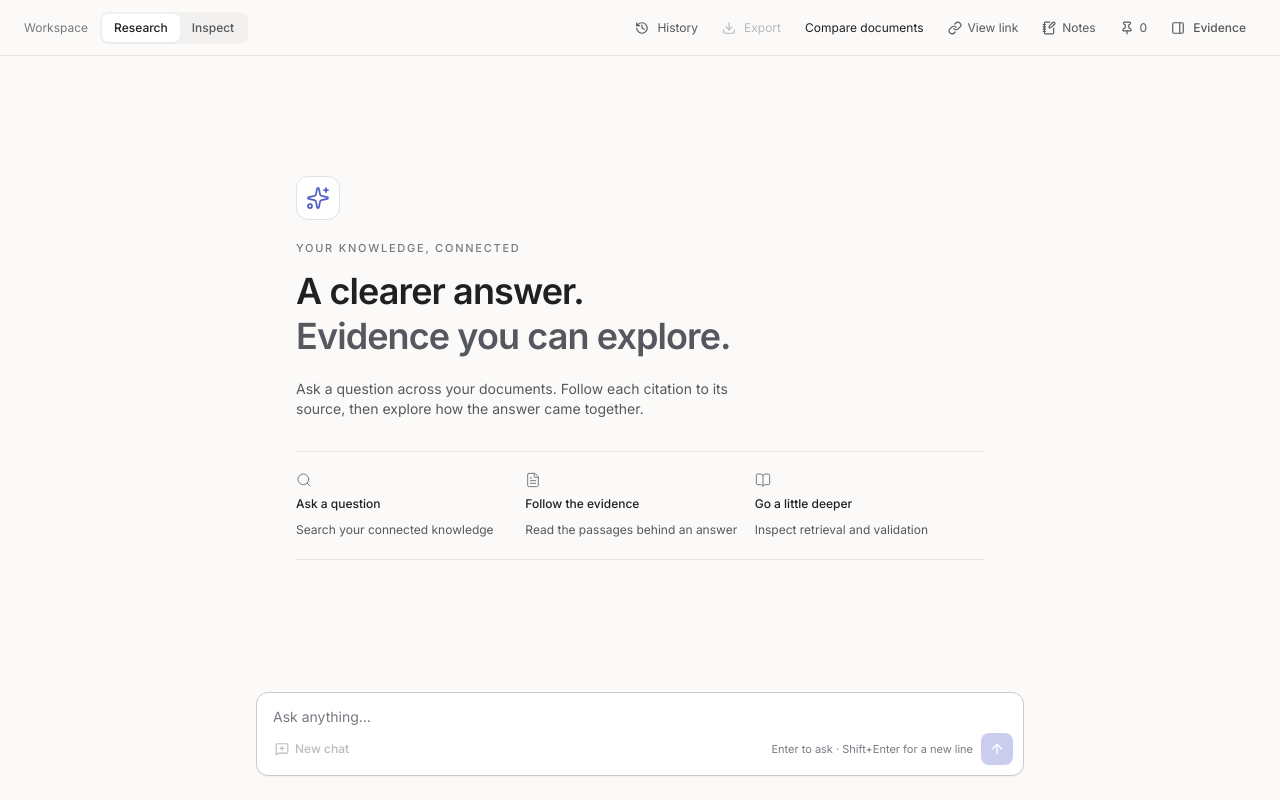
Playground evidence flow › opens supporting evidence with its passage, location and answer citation
Type "How should we deploy?" into the text box named "Question" at (640,710), box [257,693,1023,727]
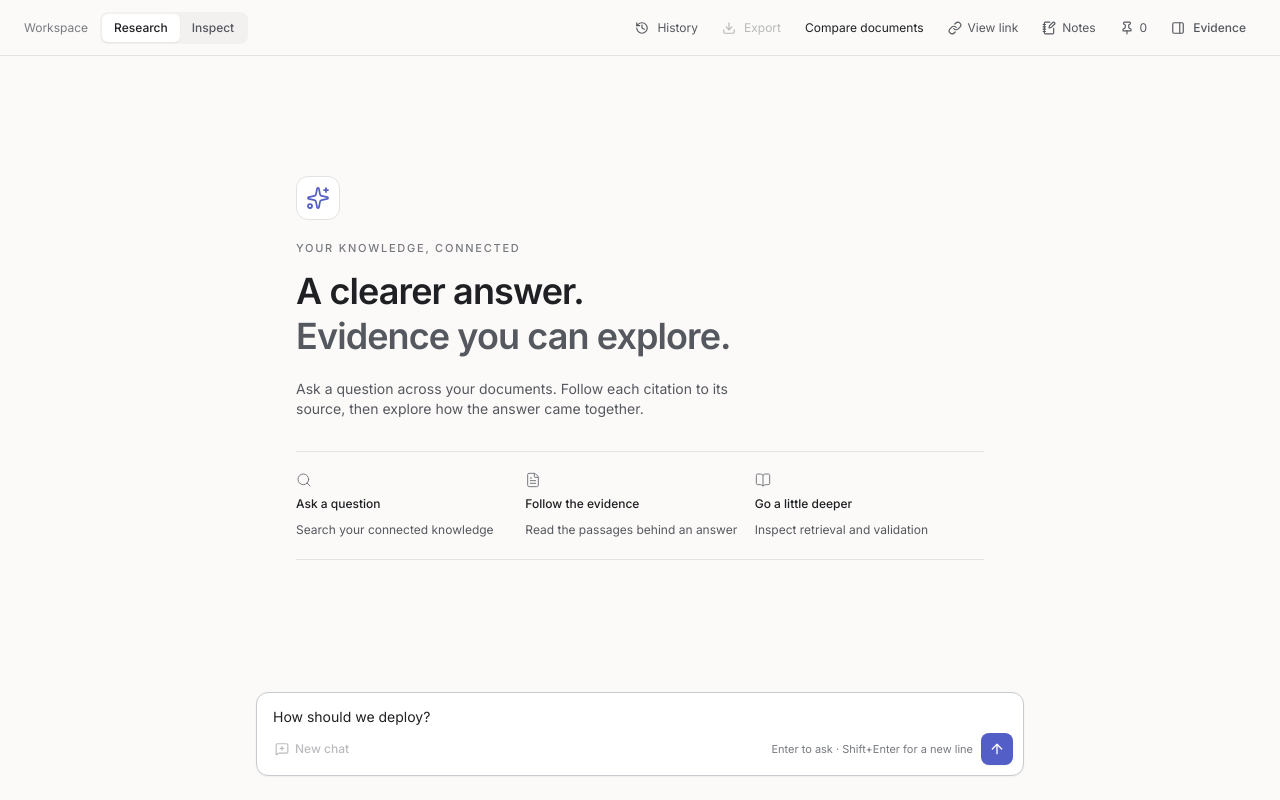
Click the button named "Ask" at (997,749), box [981,733,1013,765]
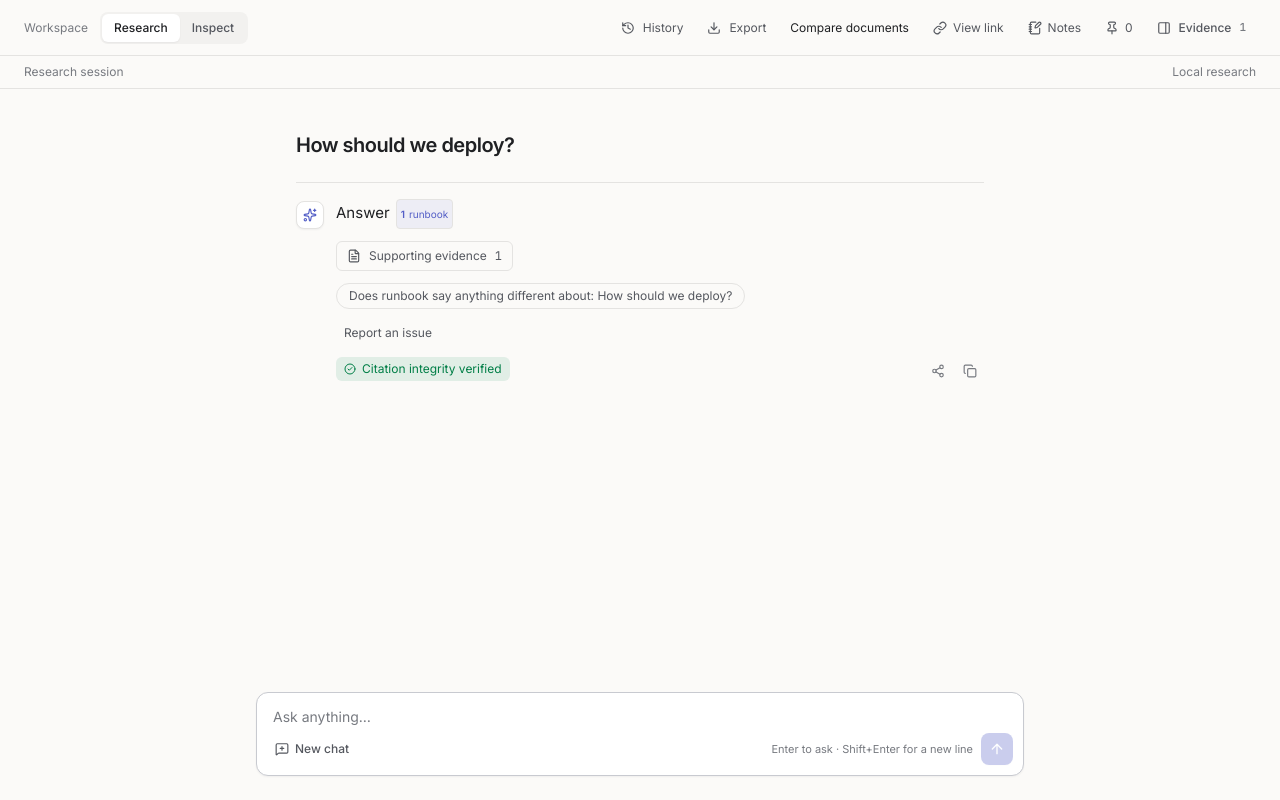
Click the button "Supporting evidence 1" at (424,256), box [336,240,513,270]
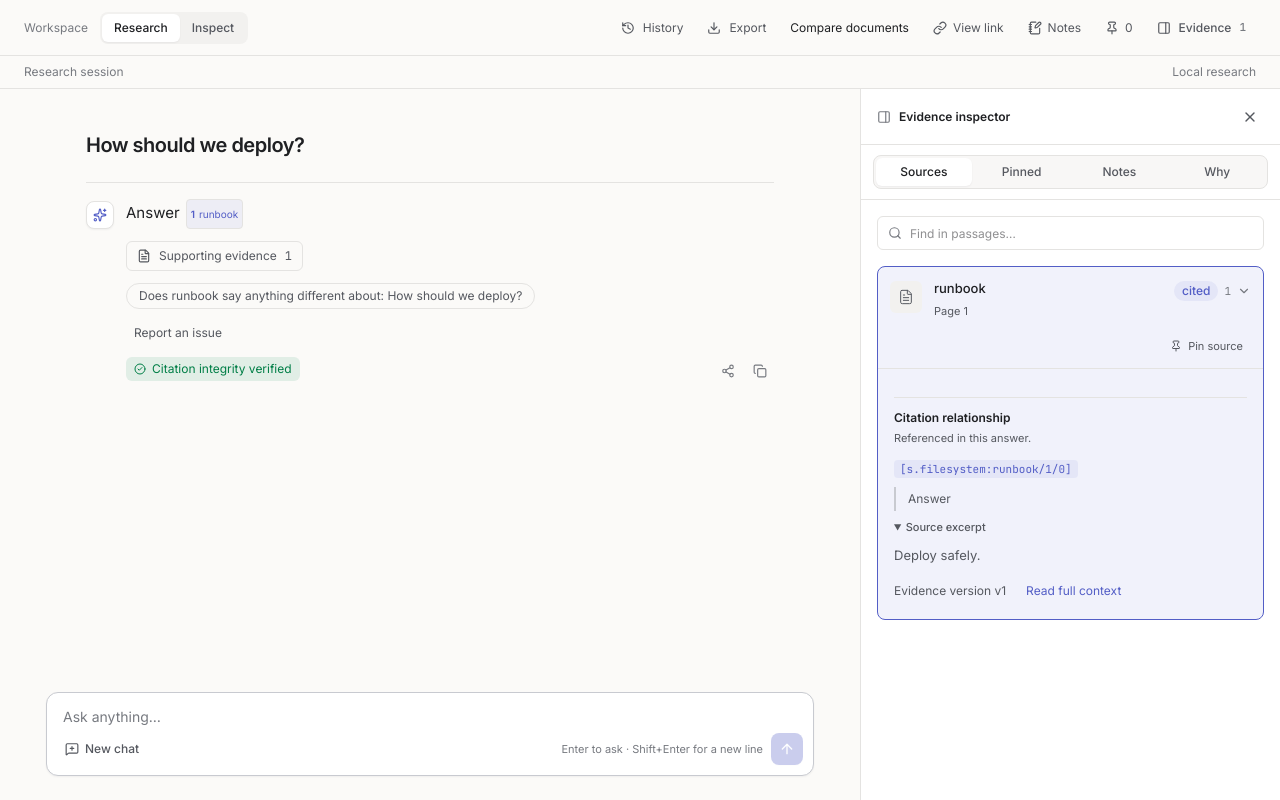
Now the button "Supporting evidence 1" is expanded, box [126,240,303,270]
Now the text "Page 1" is shown, box [934,304,968,318]
Now the text "Deploy safely." is shown, box [894,547,980,563]
Click the button named "Close evidence inspector" at (1250,116), box [1236,102,1264,130]
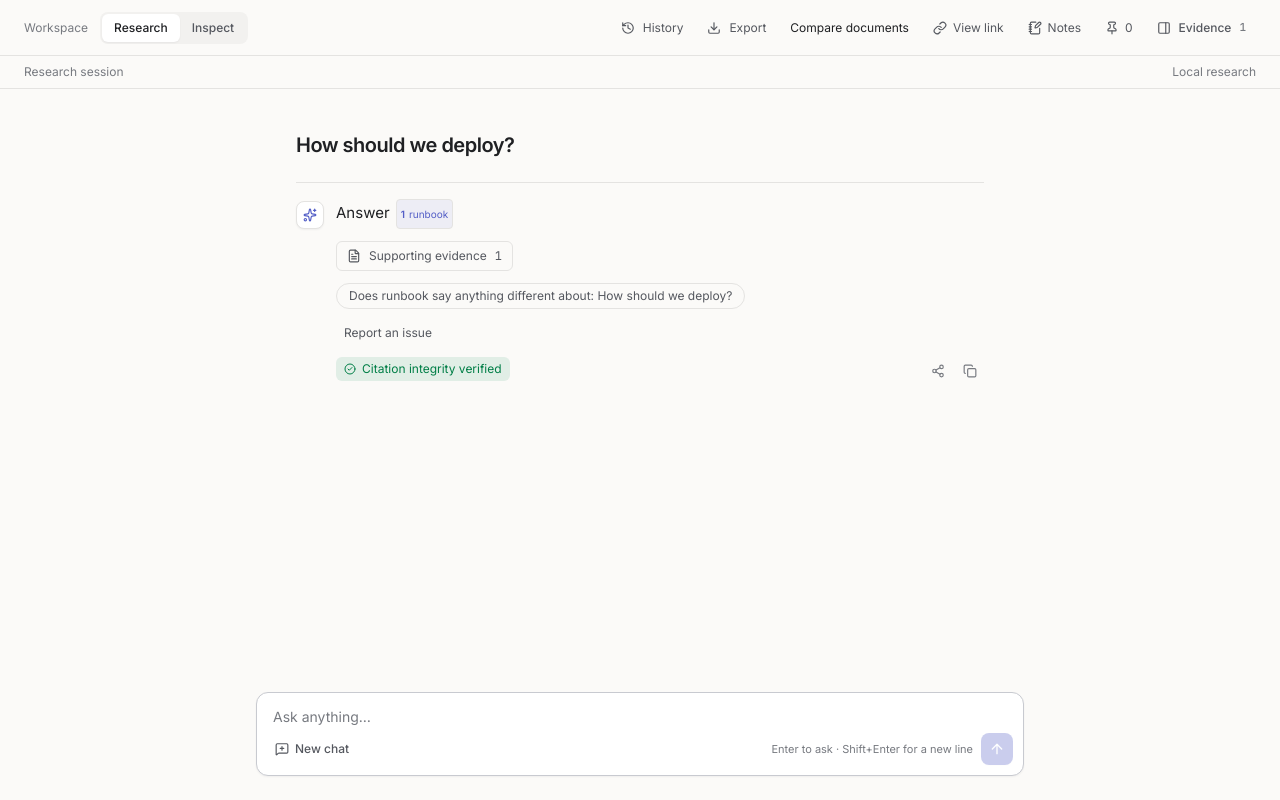
Expected: the text box named "Question" is shown, [257,693,1023,727]
Now the element "Evidence inspector" is gone
